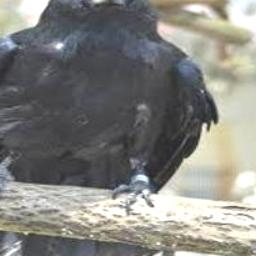Crow: (0, 0, 219, 214)
